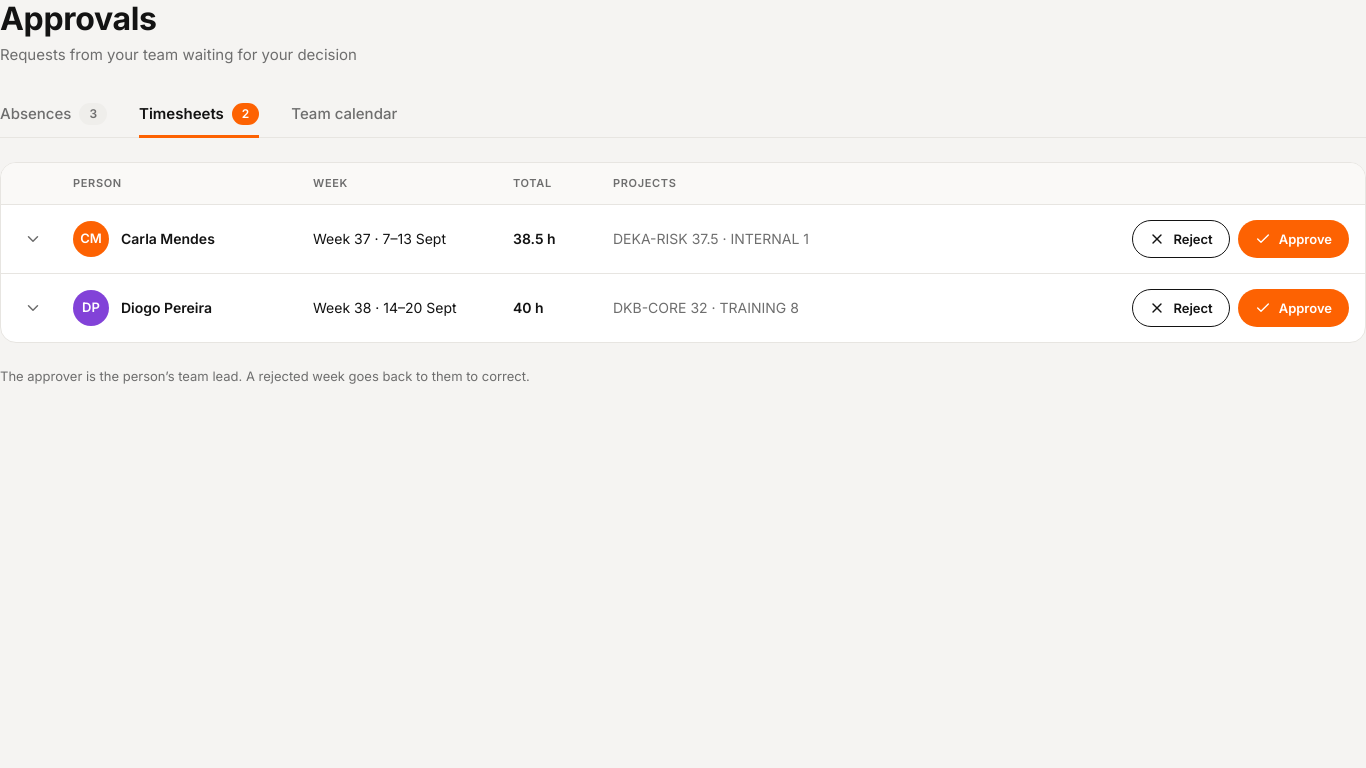
Scenario: ApprovalsView, Timesheets tab › shows a 409 inside the reject dialog and refreshes the list
Expected: the element showing "Absences 3 Timesheets 2 Team calendar" is shown, [0,91,1365,138]
Click the button "Reject" in the row of "DP" at (1181, 308), box [1132,289,1230,327]
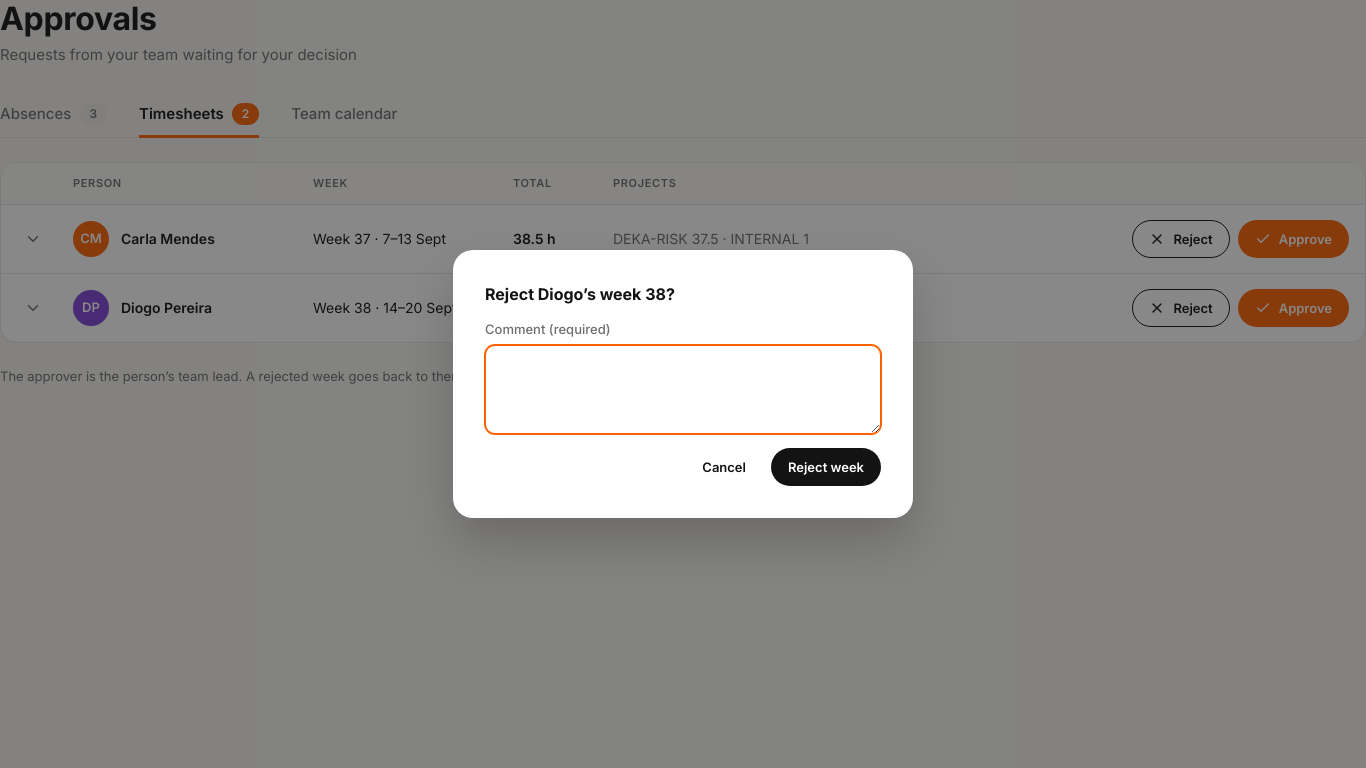
Type "Missing Friday" into the text box labelled "Comment (required)" at (683, 390), box [485,345,881,434]
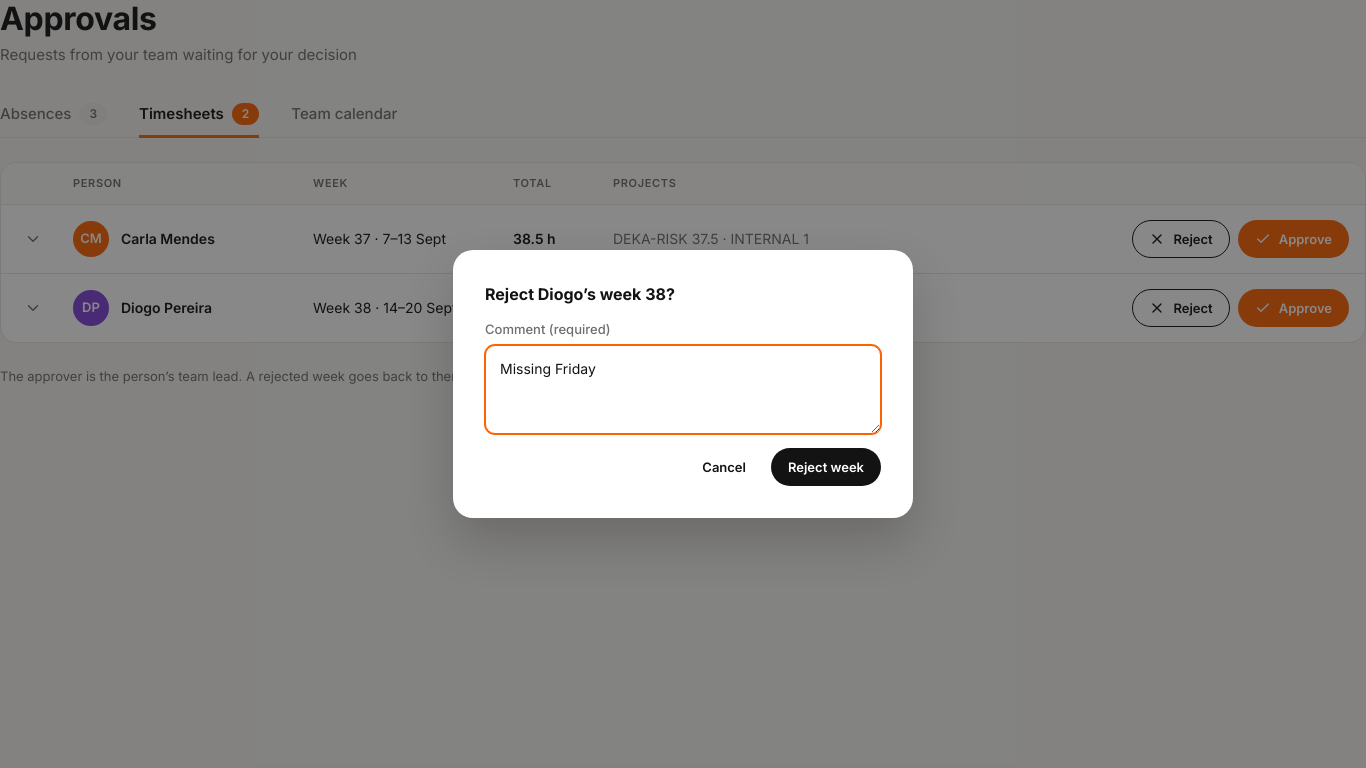
Submit the form, box [485,282,881,486]
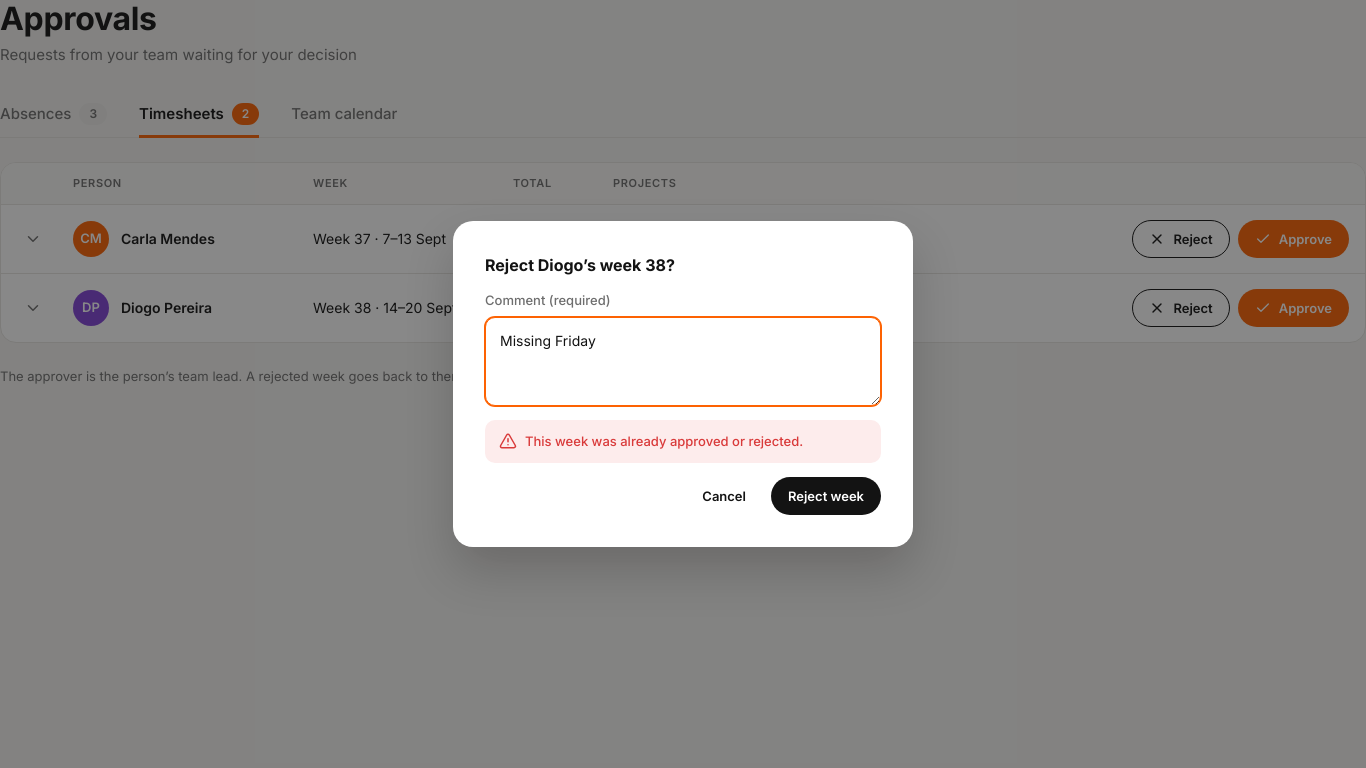
Result: the message "This week was already approved or rejected." is shown at [485,420,881,463]
